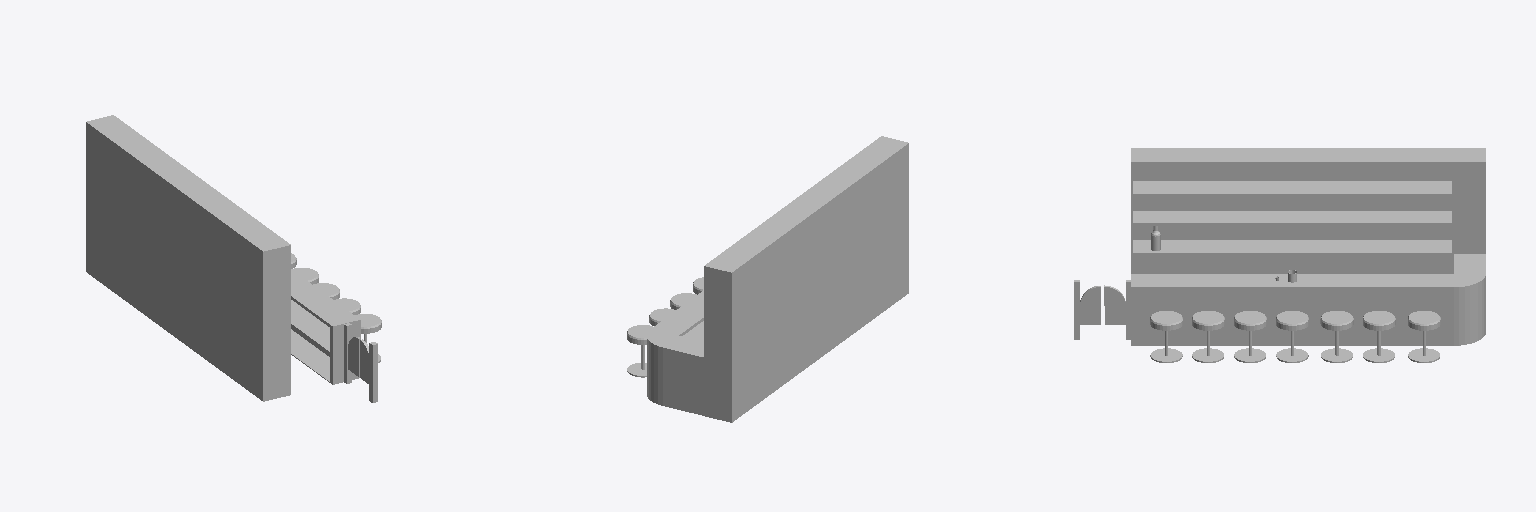
Rendered from bar_table.obj.
The picture shows the model from 3 angles: view 1: azimuth 30°, elevation 25°; view 2: azimuth 150°, elevation 25°; view 3: azimuth 270°, elevation 25°; orthographic projection.
Visible parts, largest first — view 1: bt_back_self_Cube.005, bar_table_Cube, bt_shelf_Cube.002, bt_idk.001_Cube.011; view 2: bt_back_self_Cube.005, bar_table_Cube, bt_chair_1.006_Cylinder.007; view 3: bt_back_self_Cube.005, bar_table_Cube, bt_shelf.002_Cube.007, bt_shelf.001_Cube.006, bt_chair_1.001_Cylinder.002, bt_chair_1.002_Cylinder.003, bt_chair_1.006_Cylinder.007, bt_chair_1.004_Cylinder.005, bt_chair_1_Cylinder.001, bt_chair_1.005_Cylinder.006, bt_chair_1.003_Cylinder.004, bt_door_Cube.009 (+1 smaller).
Part boxes in pixels (x1,y1,x2,y2): bt_back_self_Cube.005: (86, 115, 290, 401); bar_table_Cube: (291, 269, 360, 384); bt_shelf_Cube.002: (291, 300, 329, 354); bt_idk.001_Cube.011: (369, 342, 377, 402); bt_back_self_Cube.005: (704, 136, 908, 422); bar_table_Cube: (647, 290, 703, 415); bt_chair_1.006_Cylinder.007: (627, 325, 652, 377); bt_back_self_Cube.005: (1131, 148, 1485, 273); bar_table_Cube: (1131, 254, 1485, 345); bt_shelf.002_Cube.007: (1133, 181, 1451, 196); bt_shelf.001_Cube.006: (1133, 211, 1451, 225); bt_chair_1.001_Cylinder.002: (1320, 311, 1353, 362); bt_chair_1.002_Cylinder.003: (1363, 311, 1395, 362); bt_chair_1.006_Cylinder.007: (1408, 311, 1440, 362); bt_chair_1.004_Cylinder.005: (1192, 311, 1224, 362); bt_chair_1_Cylinder.001: (1276, 311, 1308, 362); bt_chair_1.005_Cylinder.006: (1150, 311, 1182, 362); bt_chair_1.003_Cylinder.004: (1234, 311, 1266, 362); bt_door_Cube.009: (1104, 285, 1125, 324).
Size of the model in its own units: 9.61 by 10.28 by 25.61.